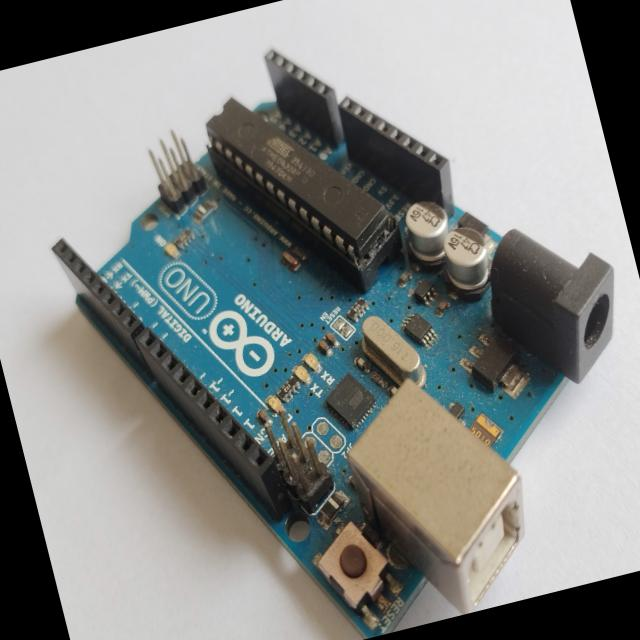arduino: (10, 0, 640, 640)
